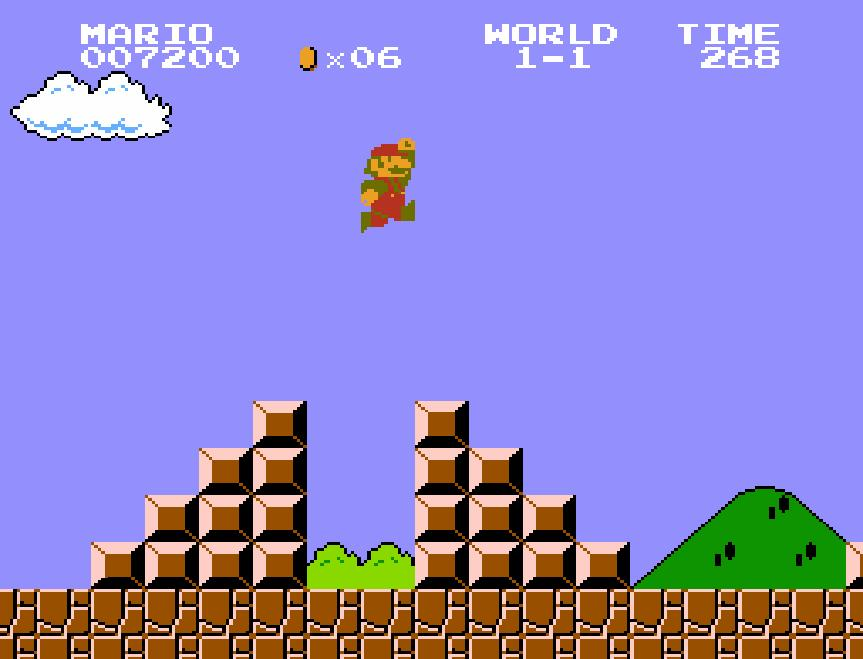big_mario: (358, 136, 416, 234)
